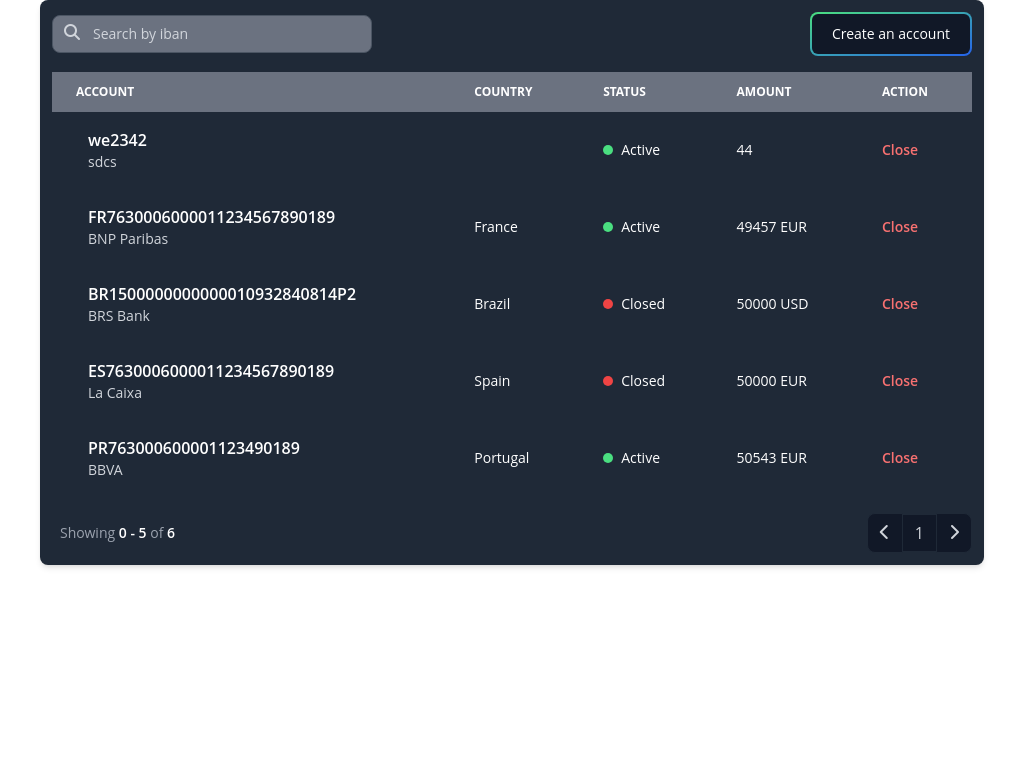
Test case: Filtering table
This screenshot has width=1024, height=768.
Type "ES" into the field with placeholder "Search by iban" at (212, 34), box [52,15,372,53]
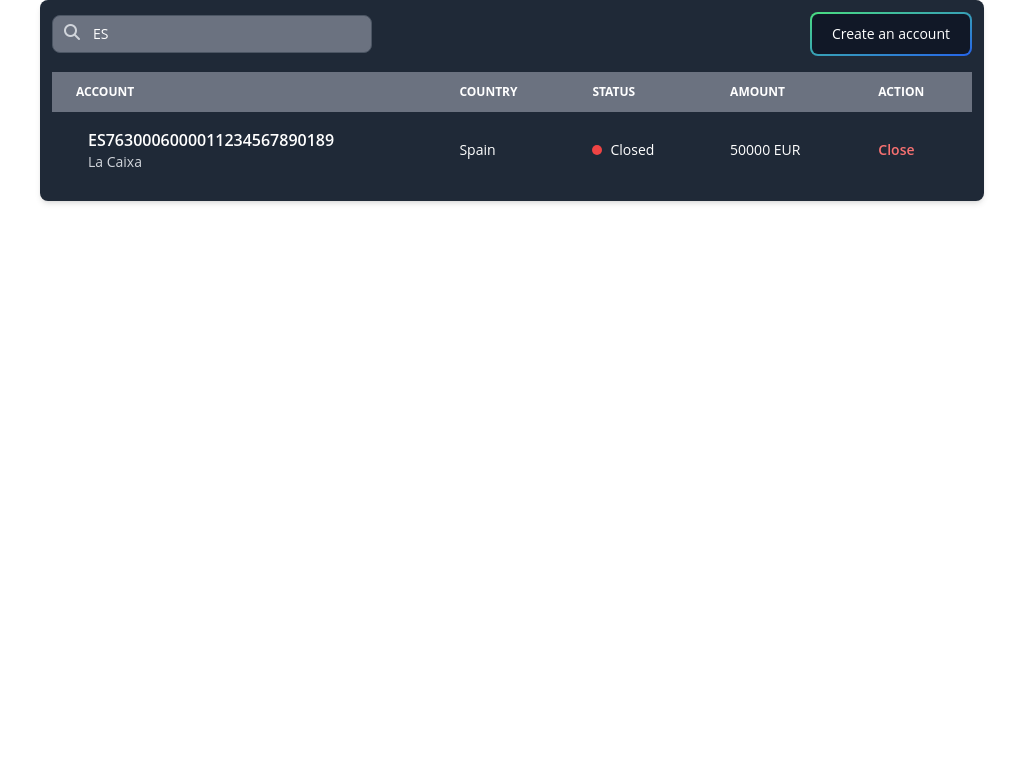
Result: no links "BBVA" are shown
